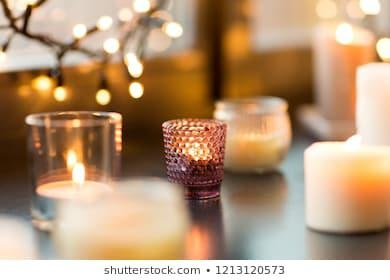fire: (65, 148, 87, 186), (373, 35, 389, 63)
